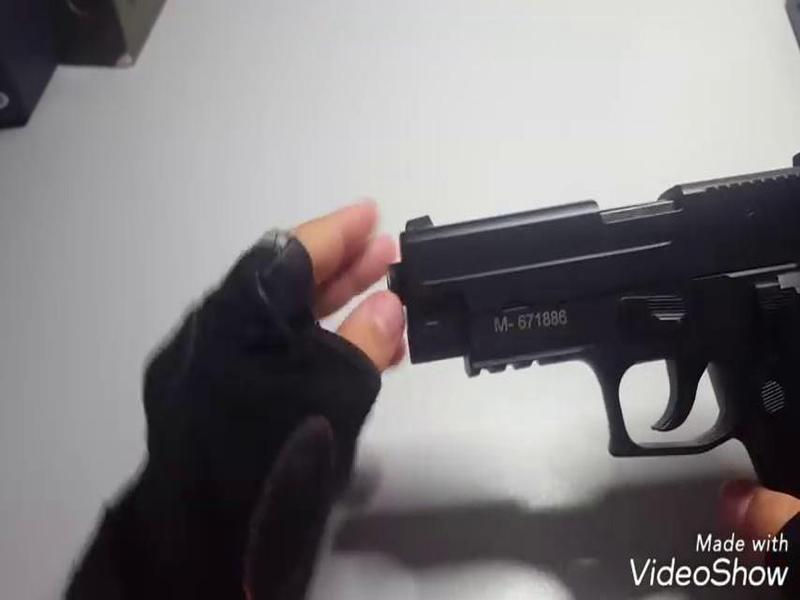Pistola: (388, 144, 800, 500)
